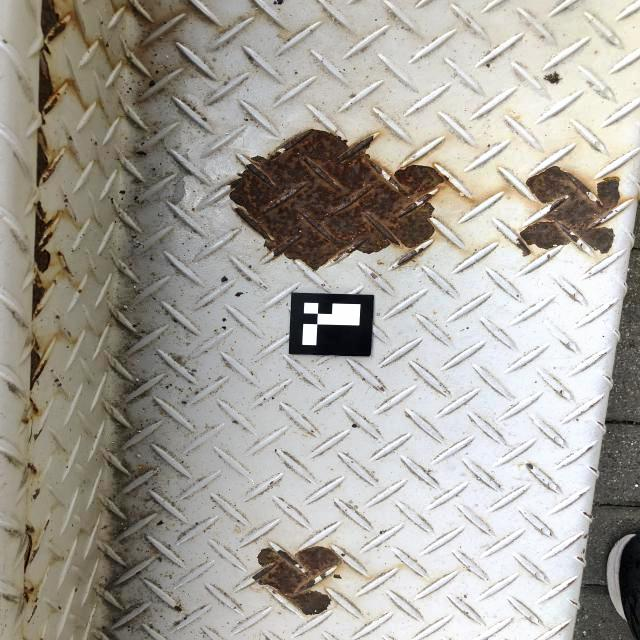Corrosion: (225, 128, 445, 273), (519, 164, 623, 254), (251, 545, 345, 617), (37, 42, 62, 126), (34, 201, 58, 274), (36, 128, 64, 187), (38, 0, 68, 42), (30, 337, 48, 392), (32, 273, 47, 322), (23, 524, 37, 576), (21, 396, 39, 424), (57, 251, 73, 277), (515, 238, 533, 258), (22, 586, 34, 606), (26, 462, 37, 475), (525, 462, 534, 471), (173, 605, 183, 612), (443, 174, 449, 181), (77, 289, 81, 293)
